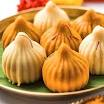modak: (44, 42, 90, 93), (1, 32, 43, 86), (1, 12, 45, 51), (41, 20, 82, 57), (29, 1, 74, 31), (80, 22, 104, 73), (72, 6, 104, 39)
